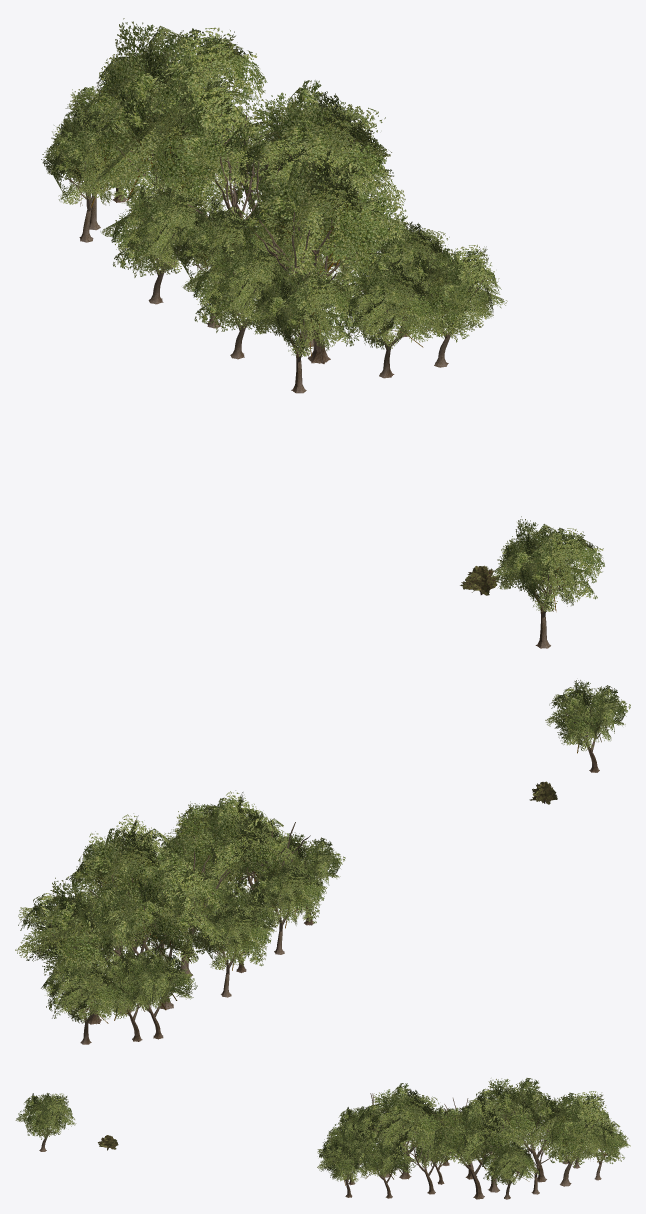
File: Trees.FBX
The picture shows the model from 3 angles, top to bottom: view 1: azimuth 30°, elevation 25°; view 2: azimuth 150°, elevation 25°; view 3: azimuth 270°, elevation 25°; orthographic projection. The views are drawn at different scales.
Visible parts, largest first — view 1: Wood_L_Leaf004, Wood_L_Leaf003, Wood_L_Leaf009, Wood_L_Leaf005, Wood_L_Leaf, Wood_L_Leaf006, Wood_L_Leaf001, Wood_L_Leaf002, Wood_L_Leaf012, Wood_L_Leaf014, Wood_L_Leaf011, Wood_L_Leaf010 (+3 smaller); view 2: Wood_L_Leaf005, Wood_L_Leaf004, Wood_L_Leaf003, Wood_L_Leaf009, Wood_L_Leaf, Wood_L_Leaf015, Wood_L_Leaf012, Wood_L_Leaf014, Wood_L_Leaf011, Wood_L_Leaf016, Wood_L_Leaf001, Wood_L_Leaf010; view 3: Wood_L_Leaf005, Wood_L_Leaf003, Wood_L_Leaf009, Wood_L_Leaf004, Wood_L_Leaf, Wood_L_Leaf002, Wood_L_Leaf008, Wood_L_Leaf007, Wood_L_Leaf015, Wood_L_Leaf006, Wood_L_Leaf001, Wood_L_Leaf013 (+6 smaller).
Boxes of the visible parts, <box> form: Wood_L_Leaf004: <box>83,71,264,217</box>; Wood_L_Leaf003: <box>235,139,411,293</box>; Wood_L_Leaf009: <box>224,80,405,217</box>; Wood_L_Leaf005: <box>81,18,267,141</box>; Wood_L_Leaf: <box>491,516,604,613</box>; Wood_L_Leaf006: <box>329,256,447,349</box>; Wood_L_Leaf001: <box>247,261,360,358</box>; Wood_L_Leaf002: <box>396,244,507,342</box>; Wood_L_Leaf012: <box>100,183,208,277</box>; Wood_L_Leaf014: <box>182,238,292,332</box>; Wood_L_Leaf011: <box>41,110,145,207</box>; Wood_L_Leaf010: <box>170,196,277,289</box>; Wood_L_Leaf005: <box>15,877,143,989</box>; Wood_L_Leaf004: <box>106,862,228,965</box>; Wood_L_Leaf003: <box>167,790,297,889</box>; Wood_L_Leaf009: <box>65,813,193,911</box>; Wood_L_Leaf: <box>545,680,630,753</box>; Wood_L_Leaf015: <box>41,960,127,1023</box>; Wood_L_Leaf012: <box>193,900,274,970</box>; Wood_L_Leaf014: <box>247,858,327,928</box>; Wood_L_Leaf011: <box>116,944,197,1013</box>; Wood_L_Leaf016: <box>99,948,174,1020</box>; Wood_L_Leaf001: <box>267,832,345,901</box>; Wood_L_Leaf010: <box>198,877,280,946</box>; Wood_L_Leaf005: <box>523,1091,616,1167</box>; Wood_L_Leaf003: <box>357,1083,450,1154</box>; Wood_L_Leaf009: <box>427,1097,522,1169</box>; Wood_L_Leaf004: <box>468,1078,551,1150</box>; Wood_L_Leaf: <box>15,1093,76,1139</box>; Wood_L_Leaf002: <box>317,1137,368,1185</box>; Wood_L_Leaf008: <box>482,1141,539,1185</box>; Wood_L_Leaf007: <box>357,1136,415,1179</box>; Wood_L_Leaf015: <box>580,1118,630,1163</box>; Wood_L_Leaf006: <box>319,1121,372,1161</box>; Wood_L_Leaf001: <box>332,1106,379,1143</box>; Wood_L_Leaf013: <box>412,1123,461,1168</box>.
Bounding box in the file's own units: 1619 × 963 × 5546.
